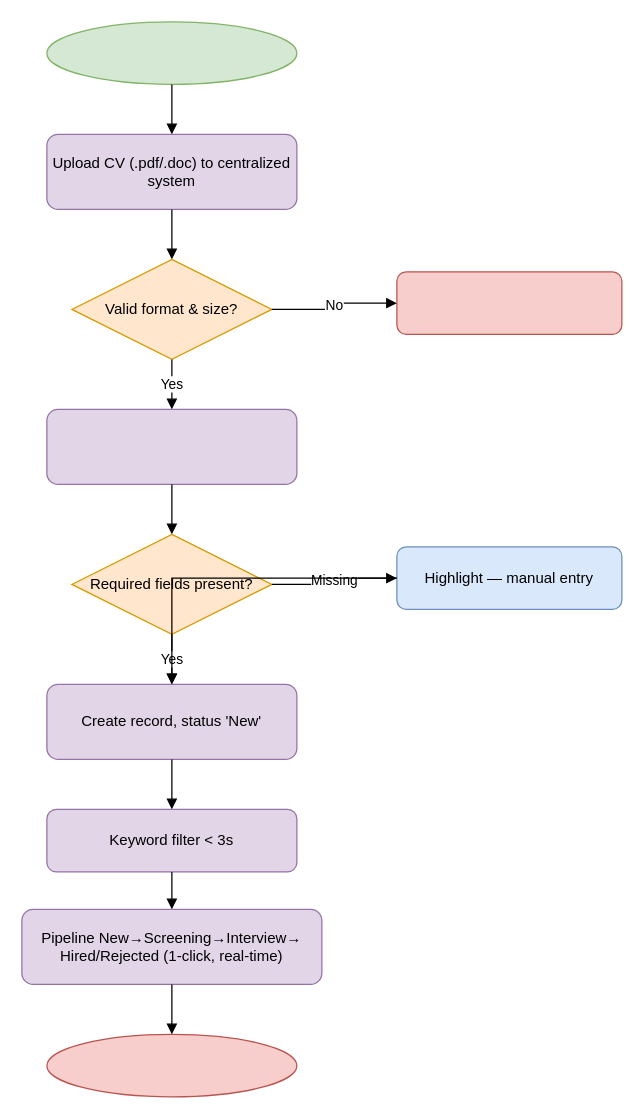
This 644x1119 diagram has some shape labels left out. Each missing label, with the centre of its shape:
Error ER03 / ER05: (509,302)
Fast, consistent decision: (171,1065)
OCR/NLP extracts 5 core fields: (171,446)
Recruiter has CVs for a position: (171,52)
